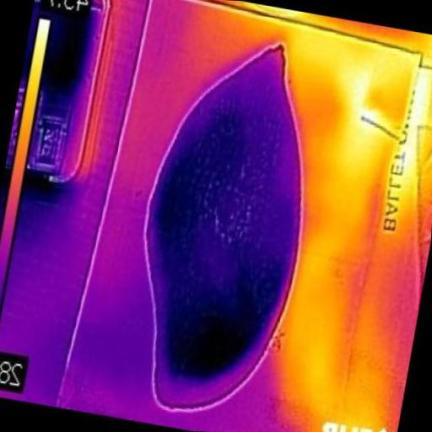mango: (148, 45, 300, 406)
